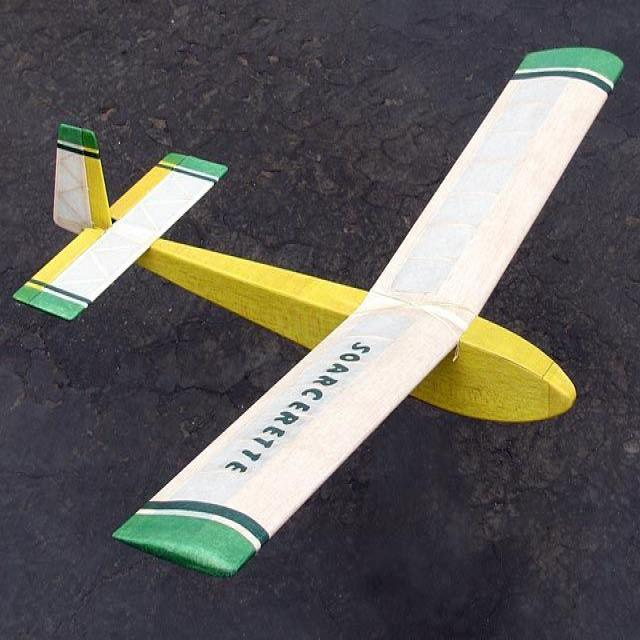iha: (11, 38, 628, 586)
